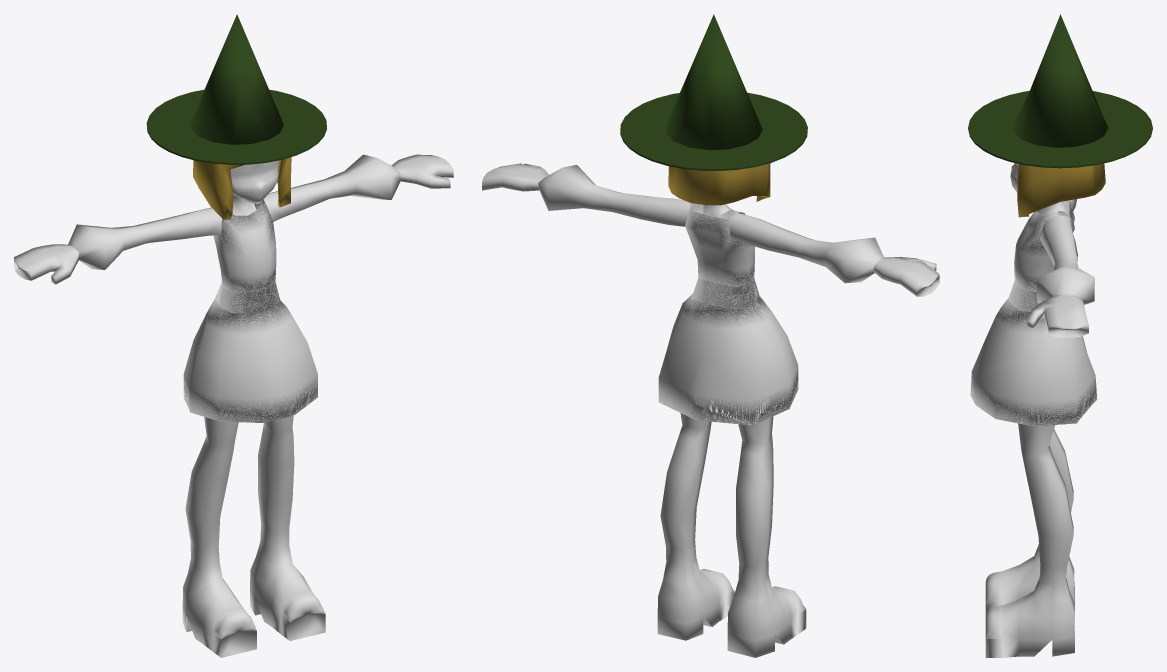
Rendered from bruxinha.fbx.
The picture shows the model from 3 angles, left to right: view 1: azimuth 30°, elevation 25°; view 2: azimuth 150°, elevation 25°; view 3: azimuth 270°, elevation 25°; orthographic projection. The views are drawn at different scales.
Parts seen in each view (by area): view 1: KeyframeChef_LowPoly_Base, KeyframeChef_LowPoly_Base.003, KeyframeChef_LowPoly_Base.002, Cylinder, Cone, KeyframeChef_LowPoly_Base.001, Plane; view 2: KeyframeChef_LowPoly_Base, KeyframeChef_LowPoly_Base.003, KeyframeChef_LowPoly_Base.002, Cylinder, Cone, KeyframeChef_LowPoly_Base.001, Plane; view 3: KeyframeChef_LowPoly_Base, KeyframeChef_LowPoly_Base.003, Cylinder, Cone, Plane, KeyframeChef_LowPoly_Base.002, KeyframeChef_LowPoly_Base.001.
Part boxes in pixels (<box>): KeyframeChef_LowPoly_Base: <box>14,154,453,657</box>; KeyframeChef_LowPoly_Base.003: <box>183,282,317,422</box>; KeyframeChef_LowPoly_Base.002: <box>68,154,400,269</box>; Cylinder: <box>146,89,326,164</box>; Cone: <box>191,14,283,144</box>; KeyframeChef_LowPoly_Base.001: <box>213,200,276,292</box>; Plane: <box>193,157,291,219</box>; KeyframeChef_LowPoly_Base: <box>482,163,939,657</box>; KeyframeChef_LowPoly_Base.003: <box>658,277,798,425</box>; KeyframeChef_LowPoly_Base.002: <box>538,165,883,283</box>; Cylinder: <box>620,92,807,170</box>; Cone: <box>666,14,762,150</box>; KeyframeChef_LowPoly_Base.001: <box>685,203,754,287</box>; Plane: <box>668,163,770,205</box>; KeyframeChef_LowPoly_Base: <box>985,163,1088,657</box>; KeyframeChef_LowPoly_Base.003: <box>970,281,1097,426</box>; Cylinder: <box>968,91,1152,168</box>; Cone: <box>1013,14,1108,147</box>; Plane: <box>1017,163,1105,217</box>; KeyframeChef_LowPoly_Base.002: <box>1036,199,1094,304</box>; KeyframeChef_LowPoly_Base.001: <box>1014,200,1074,291</box>.
Size of the model in its own units: 144 by 195 by 52.84.
4 materials, 3 textured.
